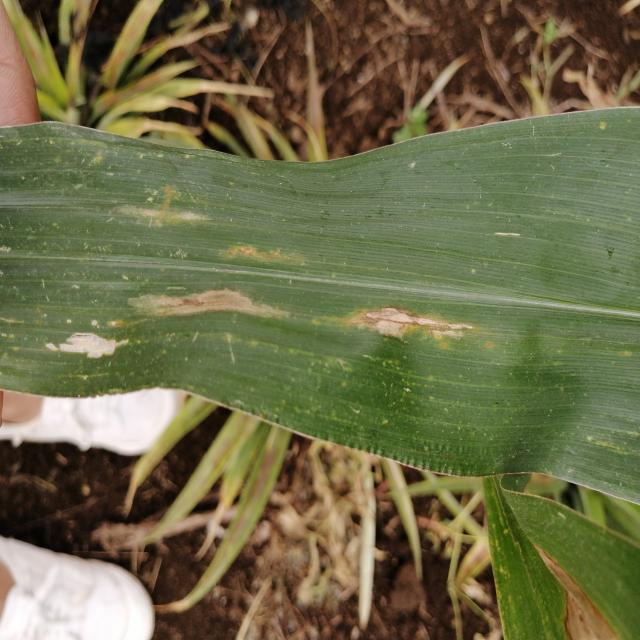Corn_Leaf_Blight: (0, 133, 640, 478)
